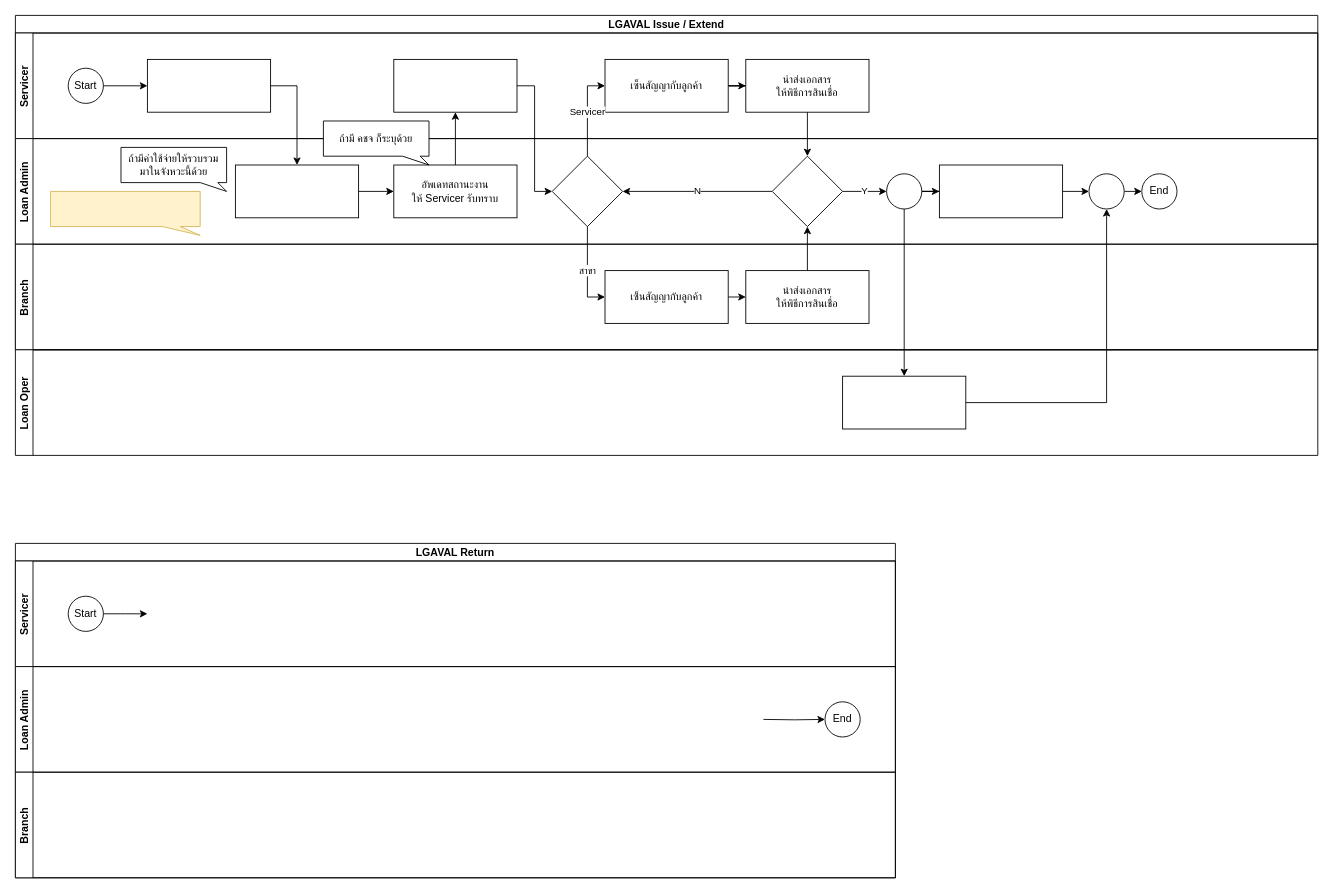
The diagram is 1333 pixels wide and 893 high, and some of its shapes have lost their labels. The centre of each missing label's shape, as x and y in pixels:
"+ระบุข้อมูล LGAVAL ที่ต้องการออก +ระบุสถานที่ ลค. รับตั๋ว" goes at point (209, 85).
"Split" goes at point (904, 191).
"ตรวจสอบเอกสาร ?" goes at point (807, 191).
"รับชำระค่าบริการ (Fee)" goes at point (904, 402).
"สถานที่ เซ็นสัญญา และมอบตั๋ว" goes at point (587, 191).
"เก็บเอกสารที่ Strong Room" goes at point (1001, 191).
"เตรียมเอกสารให้ ลค. เซ็น 1.ใบคำขอเบิก 2.ตั๋ว 3.ค่าใช้จ่าย (Fee)" goes at point (297, 191).
"แจ้งข้อมูลแก่ลูกค้า" goes at point (455, 85).
"ในเคส Extend จะเตรียมเอกสารคนละ Format ที่เหลือเหมือนกัน" goes at point (125, 213).
